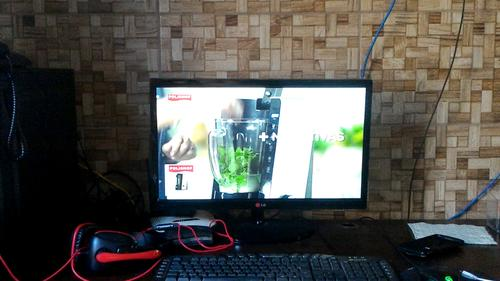Polishop #1: (163, 162, 199, 196)
